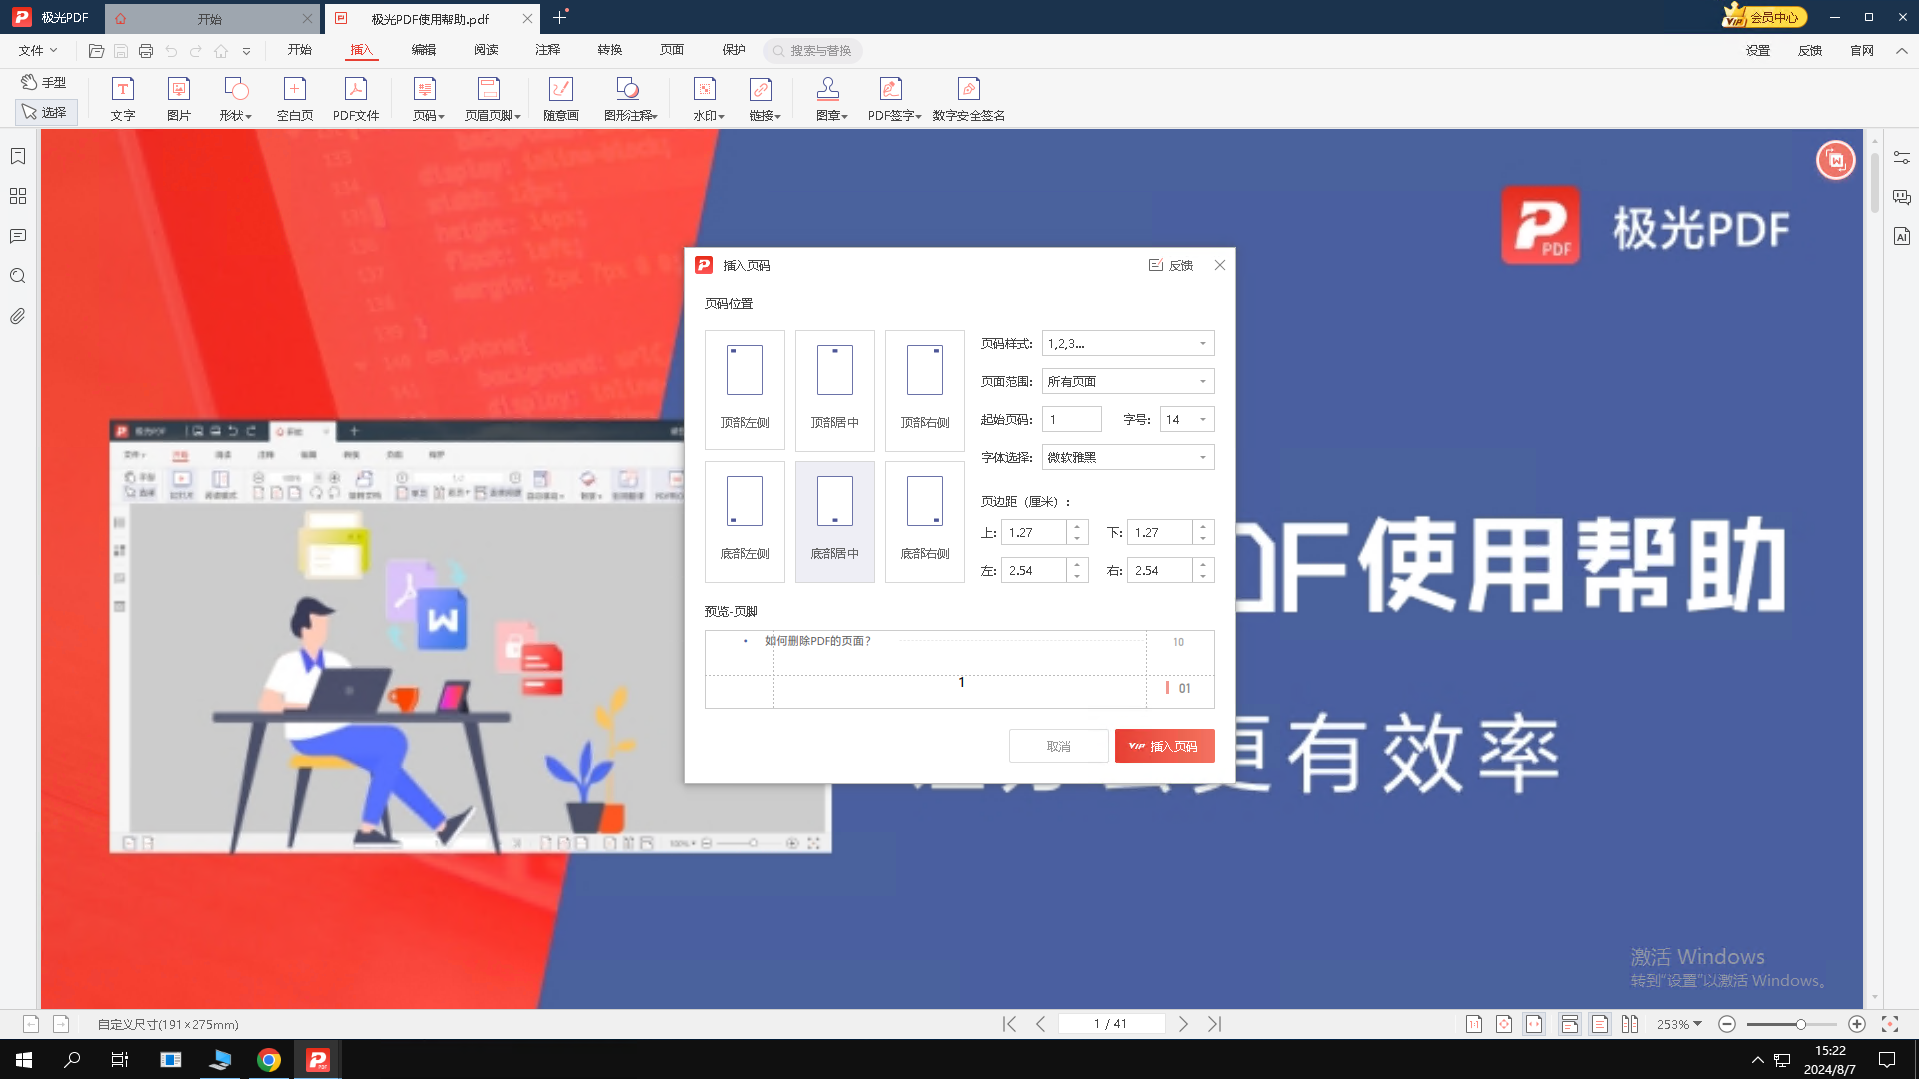Clickable: (876, 314, 967, 462), (880, 451, 974, 590), (786, 318, 878, 457), (793, 451, 883, 584), (701, 320, 789, 453), (701, 451, 782, 590), (1041, 325, 1214, 364), (1043, 368, 1217, 397), (1041, 444, 1218, 472), (1002, 511, 1095, 553), (1116, 726, 1218, 764), (1008, 726, 1102, 765), (1122, 512, 1214, 551), (1122, 555, 1214, 588), (996, 555, 1093, 585), (1143, 250, 1201, 282), (1040, 404, 1103, 433), (1162, 403, 1218, 433), (1199, 246, 1236, 285)
Root: (684, 246, 1235, 783)
